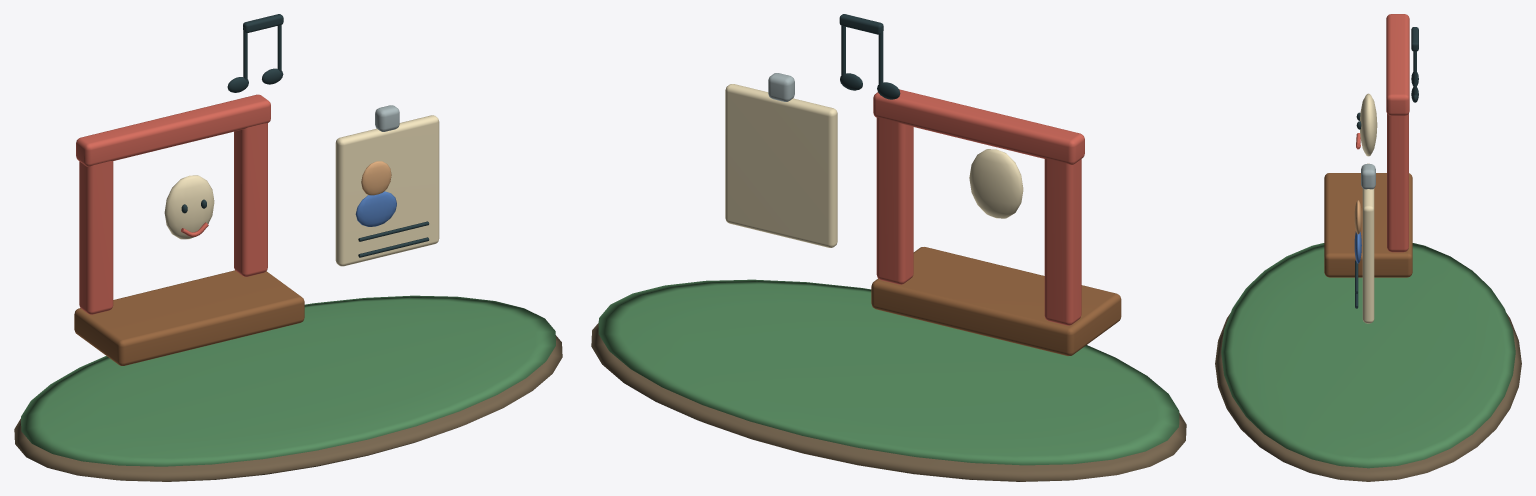
Rendered from complete-third-stage-member.glb.
3 views of the same model, side by side, from view 1: azimuth 30°, elevation 25°; view 2: azimuth 150°, elevation 25°; view 3: azimuth 270°, elevation 25° (orthographic). The views are drawn at different scales.
Visible parts, largest first — view 1: complete-third-stage-member_surface_01, complete-third-stage-member_surface_03, complete-third-stage-member_surface_04, complete-third-stage-member_surface_02, complete-third-stage-member_surface_00, complete-third-stage-member_surface_05, complete-third-stage-member_surface_08, complete-third-stage-member_surface_07, complete-third-stage-member_surface_06; view 2: complete-third-stage-member_surface_01, complete-third-stage-member_surface_03, complete-third-stage-member_surface_04, complete-third-stage-member_surface_02, complete-third-stage-member_surface_00, complete-third-stage-member_surface_05, complete-third-stage-member_surface_06; view 3: complete-third-stage-member_surface_01, complete-third-stage-member_surface_02, complete-third-stage-member_surface_00, complete-third-stage-member_surface_03, complete-third-stage-member_surface_04, complete-third-stage-member_surface_05, complete-third-stage-member_surface_06.
Boxes of the visible parts, left/top/right/bottom form: complete-third-stage-member_surface_01: left=21, top=295, right=555, bottom=466; complete-third-stage-member_surface_03: left=76, top=94, right=270, bottom=314; complete-third-stage-member_surface_04: left=164, top=115, right=439, bottom=266; complete-third-stage-member_surface_02: left=74, top=270, right=304, bottom=365; complete-third-stage-member_surface_00: left=14, top=335, right=562, bottom=481; complete-third-stage-member_surface_05: left=181, top=14, right=429, bottom=257; complete-third-stage-member_surface_08: left=355, top=191, right=396, bottom=226; complete-third-stage-member_surface_07: left=361, top=161, right=391, bottom=195; complete-third-stage-member_surface_06: left=375, top=105, right=399, bottom=131; complete-third-stage-member_surface_01: left=598, top=279, right=1179, bottom=465; complete-third-stage-member_surface_03: left=873, top=89, right=1084, bottom=325; complete-third-stage-member_surface_04: left=725, top=84, right=1023, bottom=247; complete-third-stage-member_surface_02: left=871, top=247, right=1121, bottom=355; complete-third-stage-member_surface_00: left=591, top=323, right=1186, bottom=481; complete-third-stage-member_surface_05: left=839, top=14, right=900, bottom=99; complete-third-stage-member_surface_06: left=768, top=73, right=794, bottom=101; complete-third-stage-member_surface_01: left=1221, top=243, right=1515, bottom=468; complete-third-stage-member_surface_02: left=1324, top=173, right=1412, bottom=277; complete-third-stage-member_surface_00: left=1215, top=313, right=1521, bottom=481; complete-third-stage-member_surface_03: left=1356, top=14, right=1409, bottom=252; complete-third-stage-member_surface_04: left=1360, top=93, right=1377, bottom=323; complete-third-stage-member_surface_05: left=1355, top=27, right=1418, bottom=308; complete-third-stage-member_surface_06: left=1361, top=164, right=1375, bottom=189.
Size of the model in its own units: 4.56 by 3.09 by 2.5.
